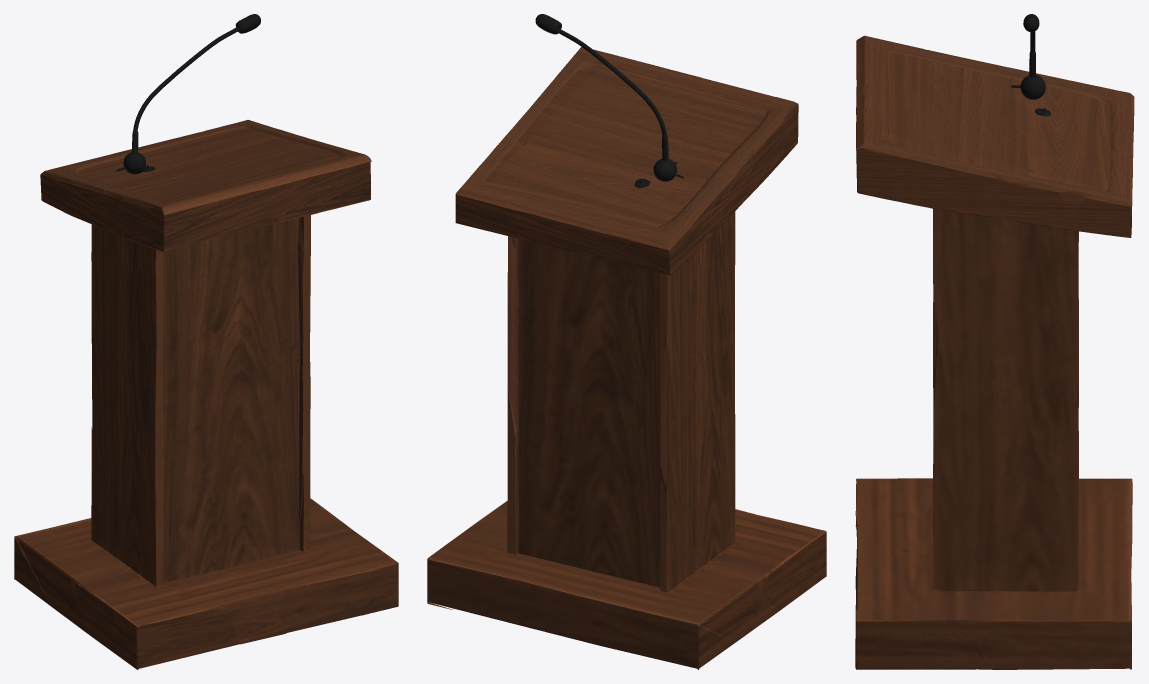
The model's file is minbar.glb.
The picture shows the model from 3 angles, left to right: view 1: azimuth 30°, elevation 25°; view 2: azimuth 150°, elevation 25°; view 3: azimuth 270°, elevation 25°; orthographic projection. The views are drawn at different scales.
Parts seen in each view (by area): view 1: output_unwrapped; view 2: output_unwrapped; view 3: output_unwrapped.
Boxes of the visible parts, <box> form: output_unwrapped: <box>14,14,398,669</box>; output_unwrapped: <box>427,14,826,669</box>; output_unwrapped: <box>855,14,1134,669</box>.
Size of the model in its own units: 0.6674 by 1.34 by 0.5497.
Materials: 1 (1 with a texture image).
